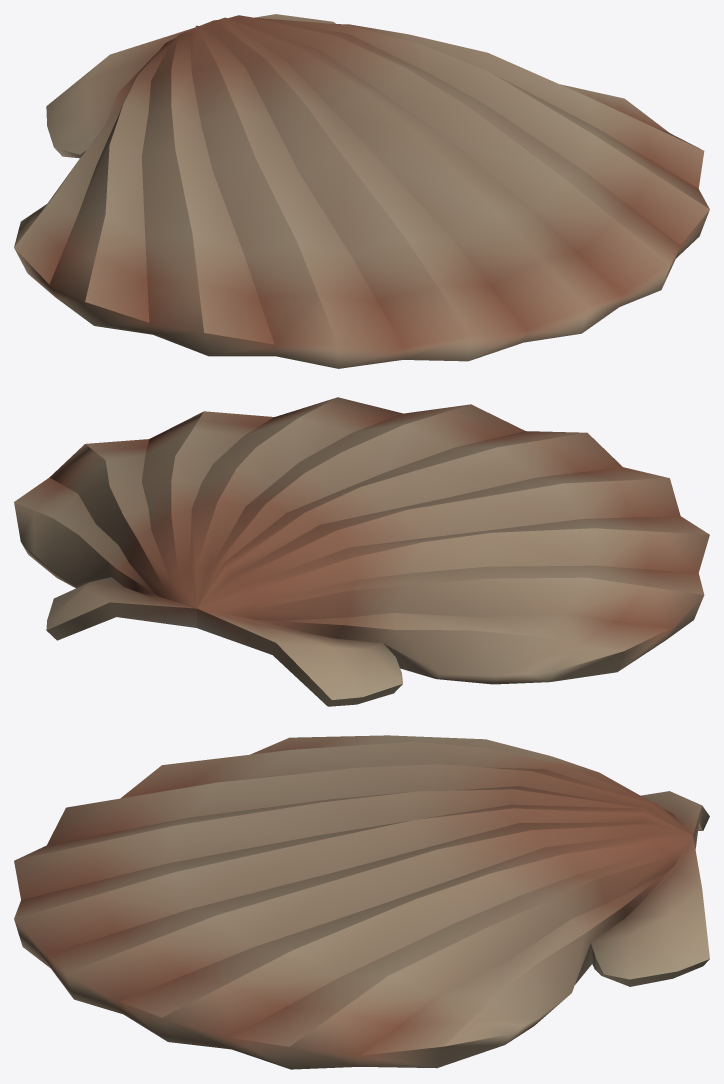
File: underwater-shells-scallop-shell_v2.glb
The picture shows the model from 3 angles, top to bottom: view 1: azimuth 30°, elevation 25°; view 2: azimuth 150°, elevation 25°; view 3: azimuth 270°, elevation 25°; orthographic projection. The views are drawn at different scales.
Visible parts, largest first — view 1: Scallop Shell_v2; view 2: Scallop Shell_v2; view 3: Scallop Shell_v2.
Part boxes in pixels (x1=…): Scallop Shell_v2: x1=14, y1=14, x2=709, y2=368; Scallop Shell_v2: x1=14, y1=397, x2=709, y2=706; Scallop Shell_v2: x1=14, y1=735, x2=709, y2=1069.
Size of the model in its own units: 0.08 by 0.0147 by 0.0759.
